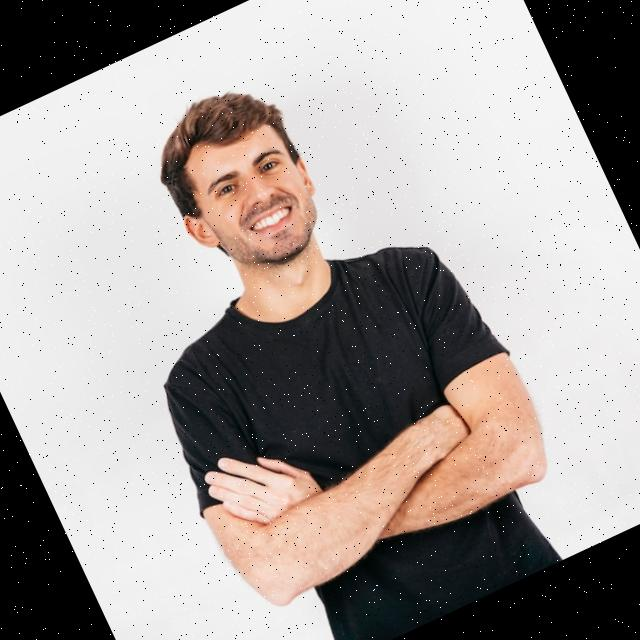Person: (42, 24, 601, 640)
